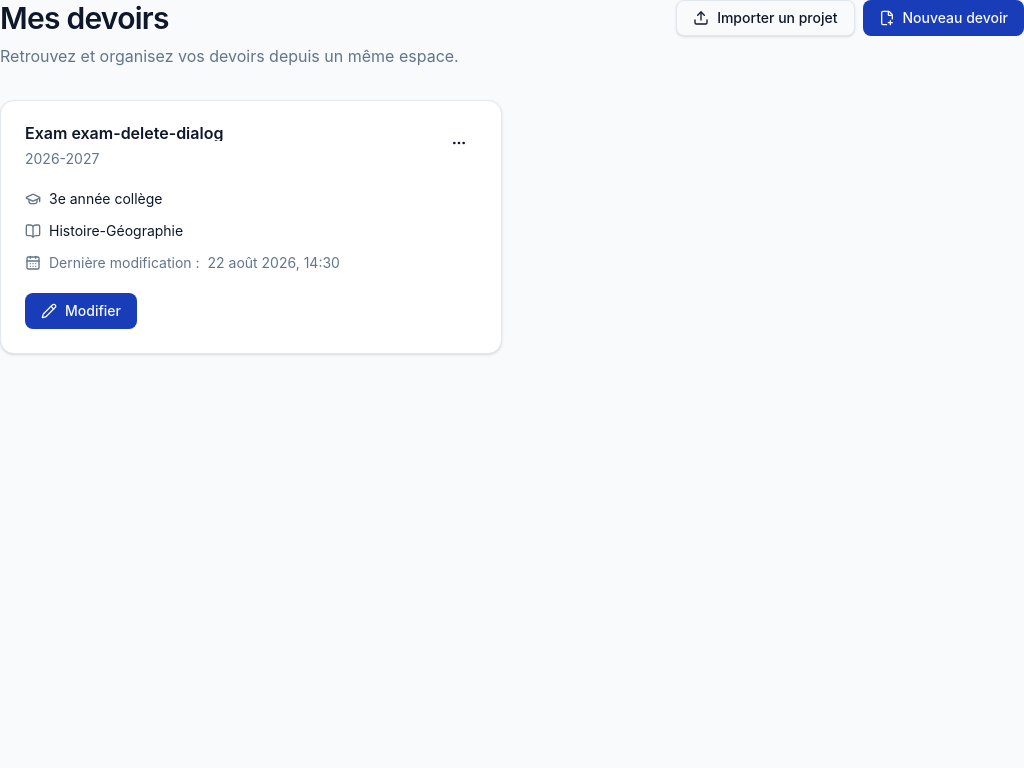
Test case: DashboardPage › opens a confirmation dialog before deleting
This screenshot has width=1024, height=768.
Check: the text "Exam exam-delete-dialog" is shown, box [25, 125, 223, 141]
Click the button named "Actions pour Exam exam-delete-dialog".
click(459, 143)  # box [441, 125, 477, 161]
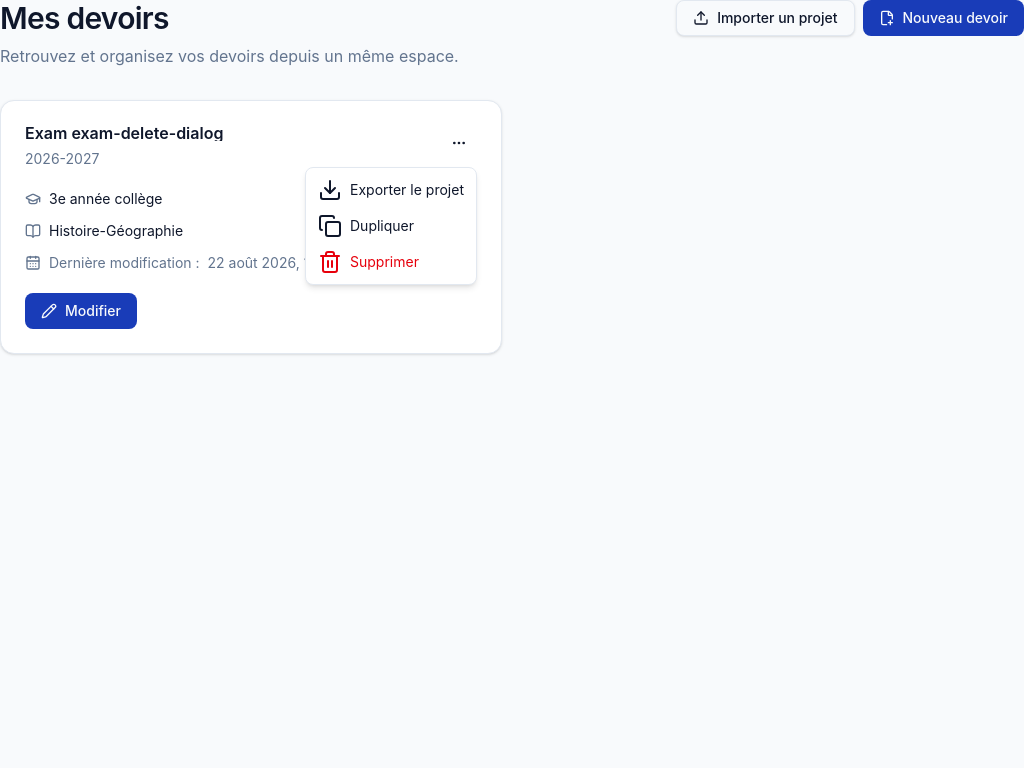
Click the menu item "Supprimer".
click(368, 262)  # box [318, 250, 419, 274]
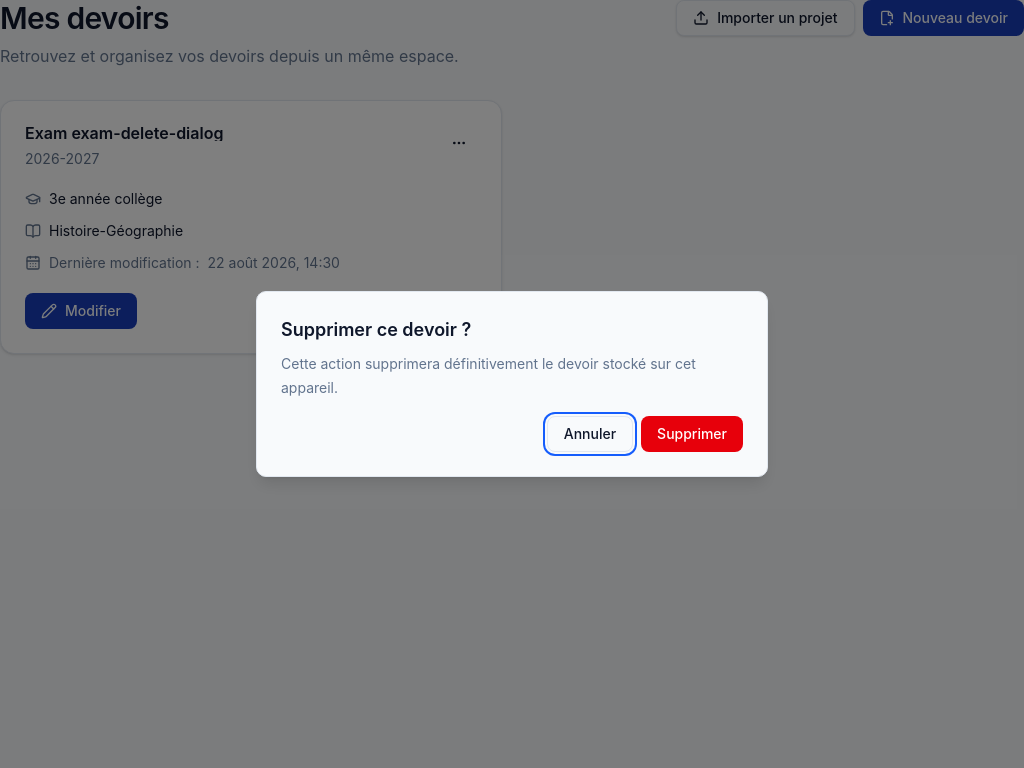
Check: the dialog is shown, box [256, 291, 768, 477]
Check: the heading "Supprimer ce devoir ?" is shown, box [281, 319, 471, 340]
